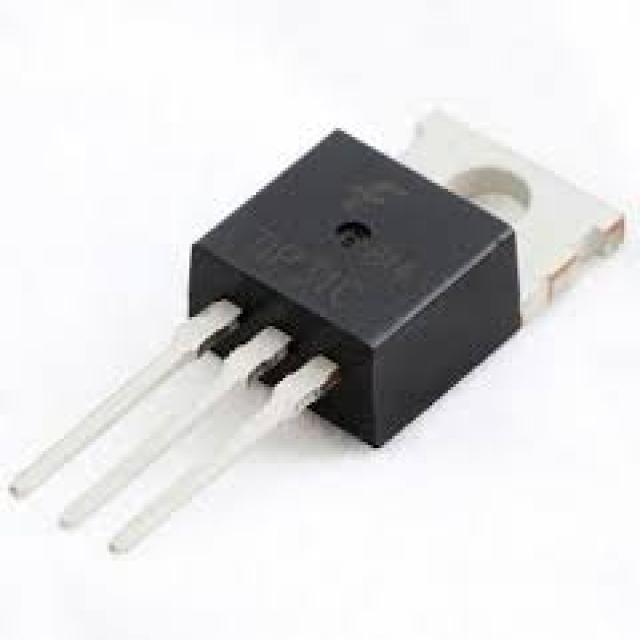Transistor: (8, 107, 627, 555)
